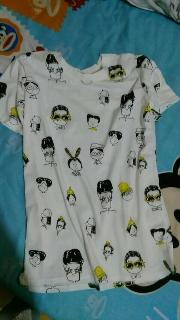short sleeve dress: (0, 51, 180, 293)
